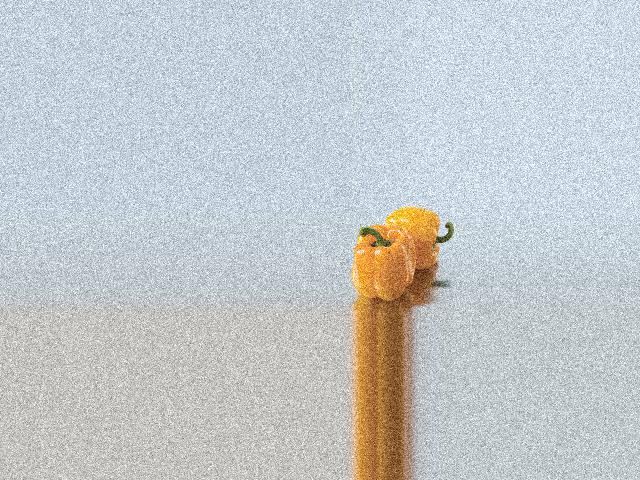bell_pepper: (383, 206, 452, 280)
